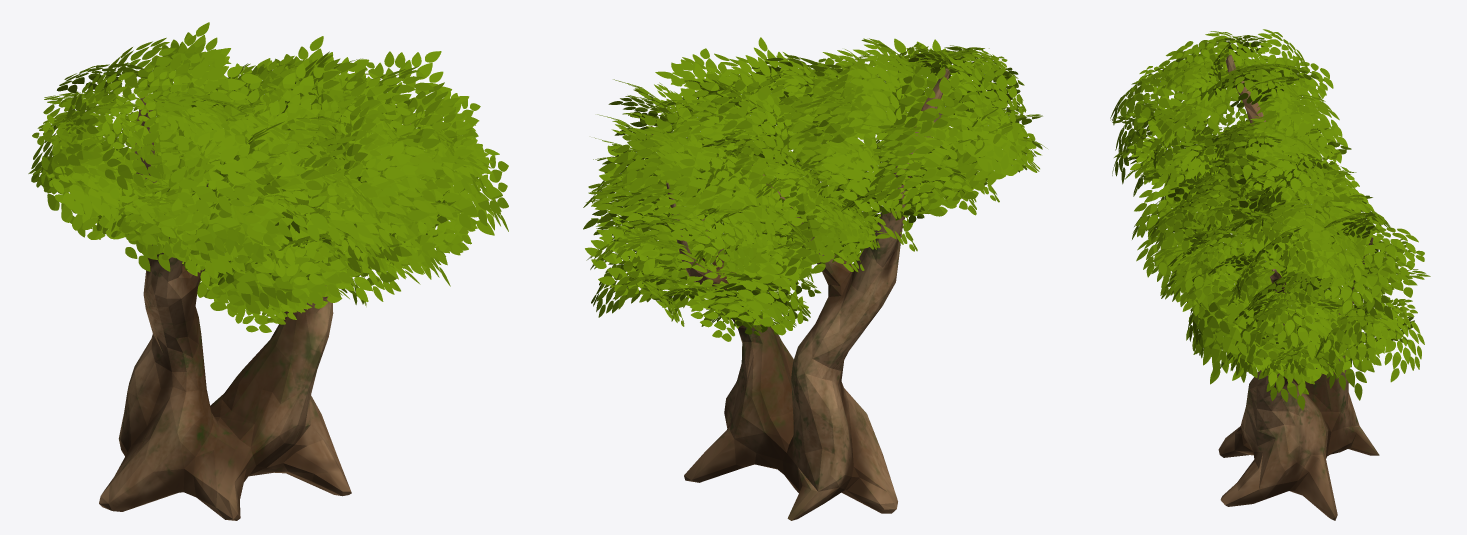
Rendered from tree_collection3.fbx.
The picture shows the model from 3 angles, left to right: view 1: azimuth 30°, elevation 25°; view 2: azimuth 150°, elevation 25°; view 3: azimuth 270°, elevation 25°; orthographic projection. The views are drawn at different scales.
Visible parts, largest first — view 1: l3; view 2: l3; view 3: l3.
Boxes of the visible parts, bbox=[...] form: l3: bbox=[28, 22, 508, 520]; l3: bbox=[583, 37, 1047, 520]; l3: bbox=[1110, 29, 1430, 520].
Size of the model in its own units: 645 by 587 by 472.
